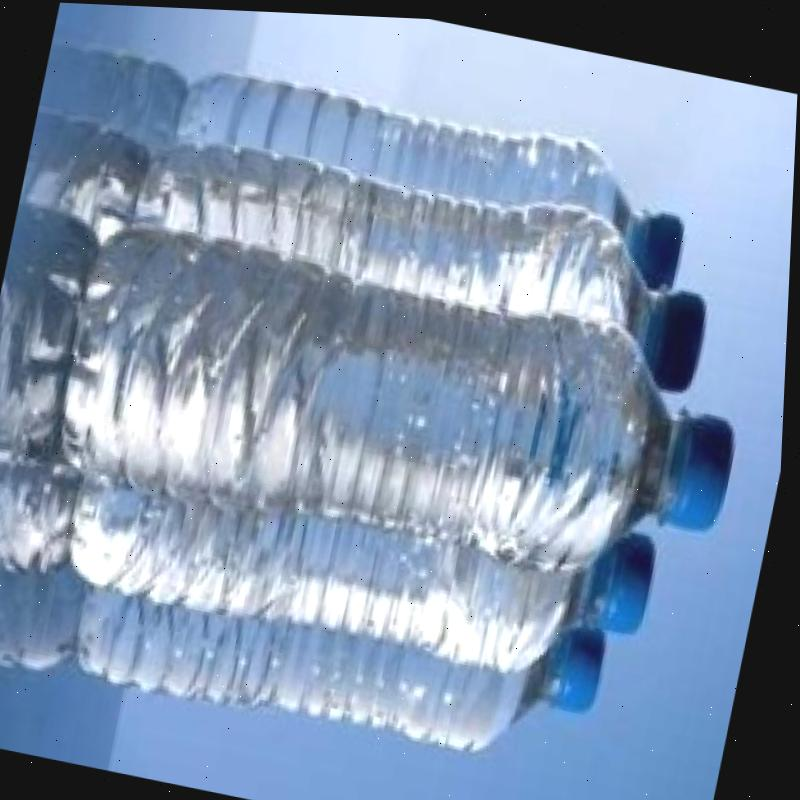botella: (45, 216, 754, 592), (102, 133, 729, 389), (60, 434, 669, 693), (58, 525, 635, 768), (164, 55, 705, 284)
